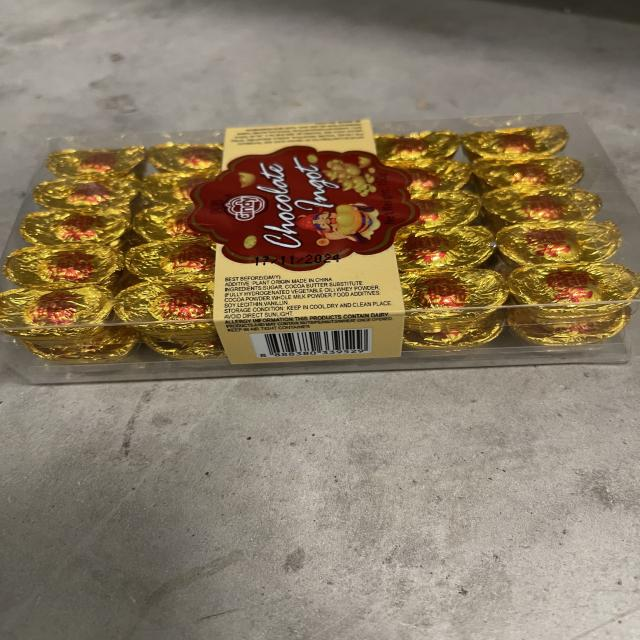object_name: (11, 122, 631, 369)
